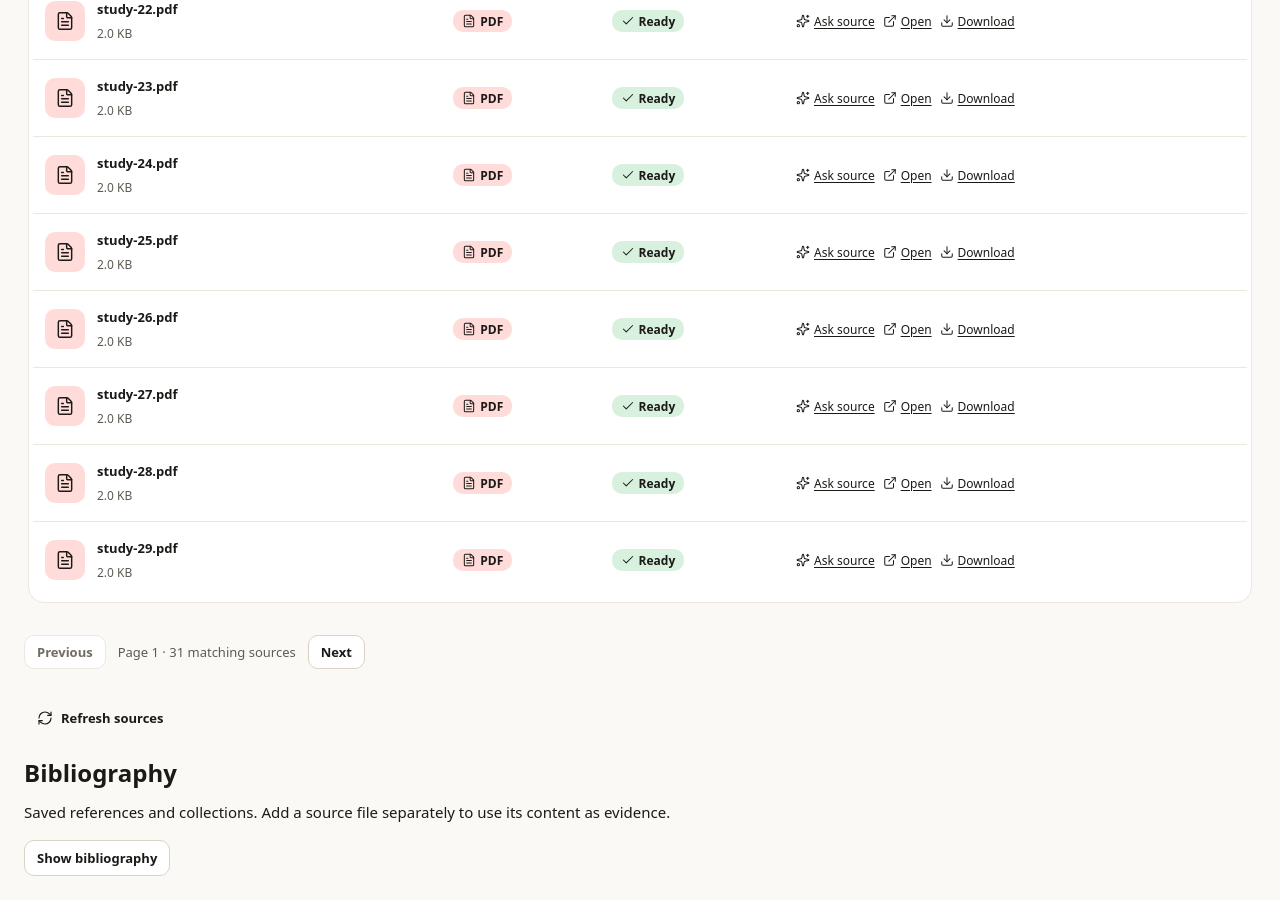
pages through bounded server results and restores a URL filter
(page scrolled)
Expected: the text "Page 1 · 31 matching sources" is shown, [118,642,296,662]
Click the button "Next".
click(336, 652)  # box [308,635,365,669]
(page scrolled)
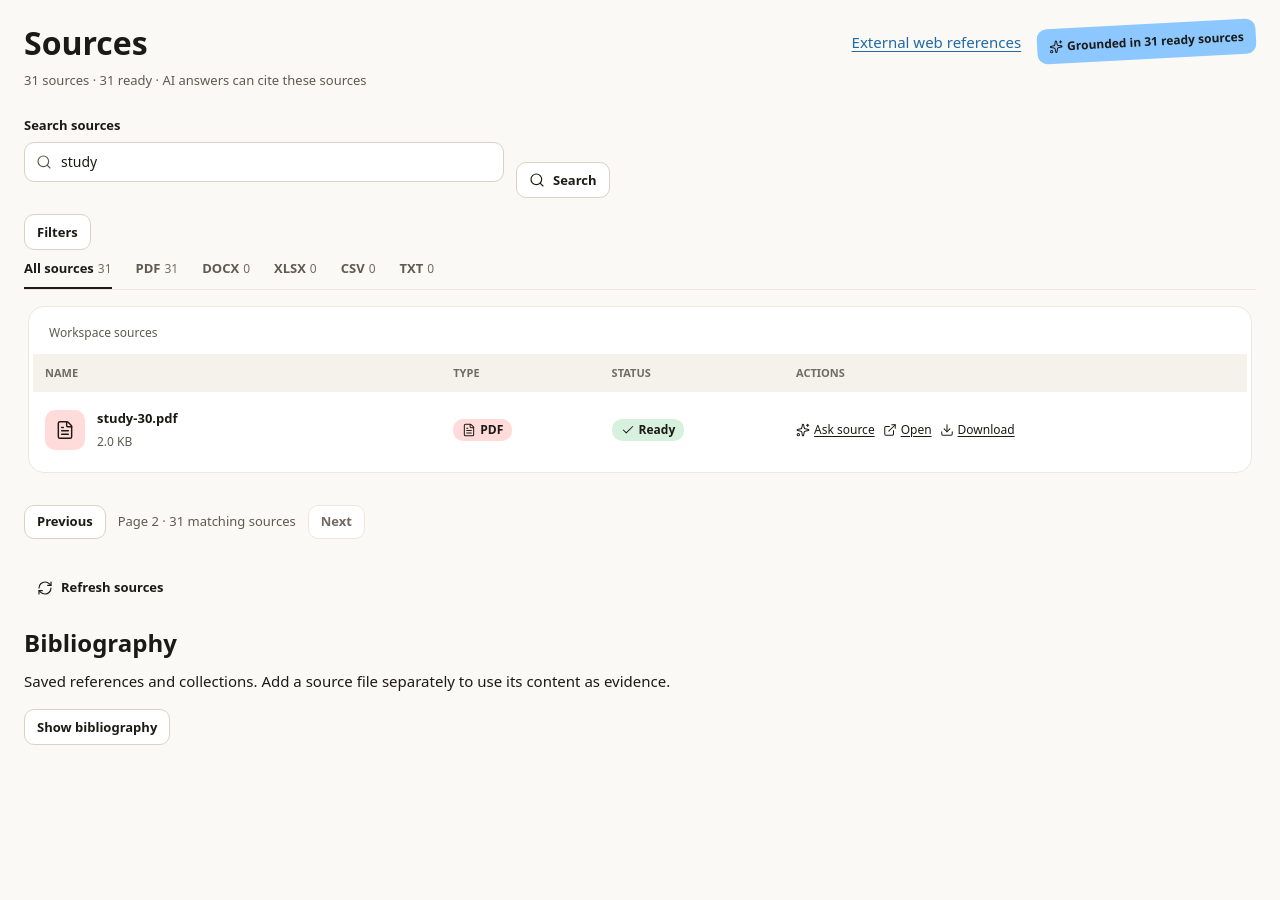
Now the text "Page 2 · 31 matching sources" is shown, box [118,511,296,532]
Now the number of rows is 2, box [33,354,1247,392]; [33,392,1247,468]
Now the button "Next" is disabled, box [308,504,365,538]
Click the button "Previous".
click(65, 522)  # box [24,504,106,538]
(page scrolled)
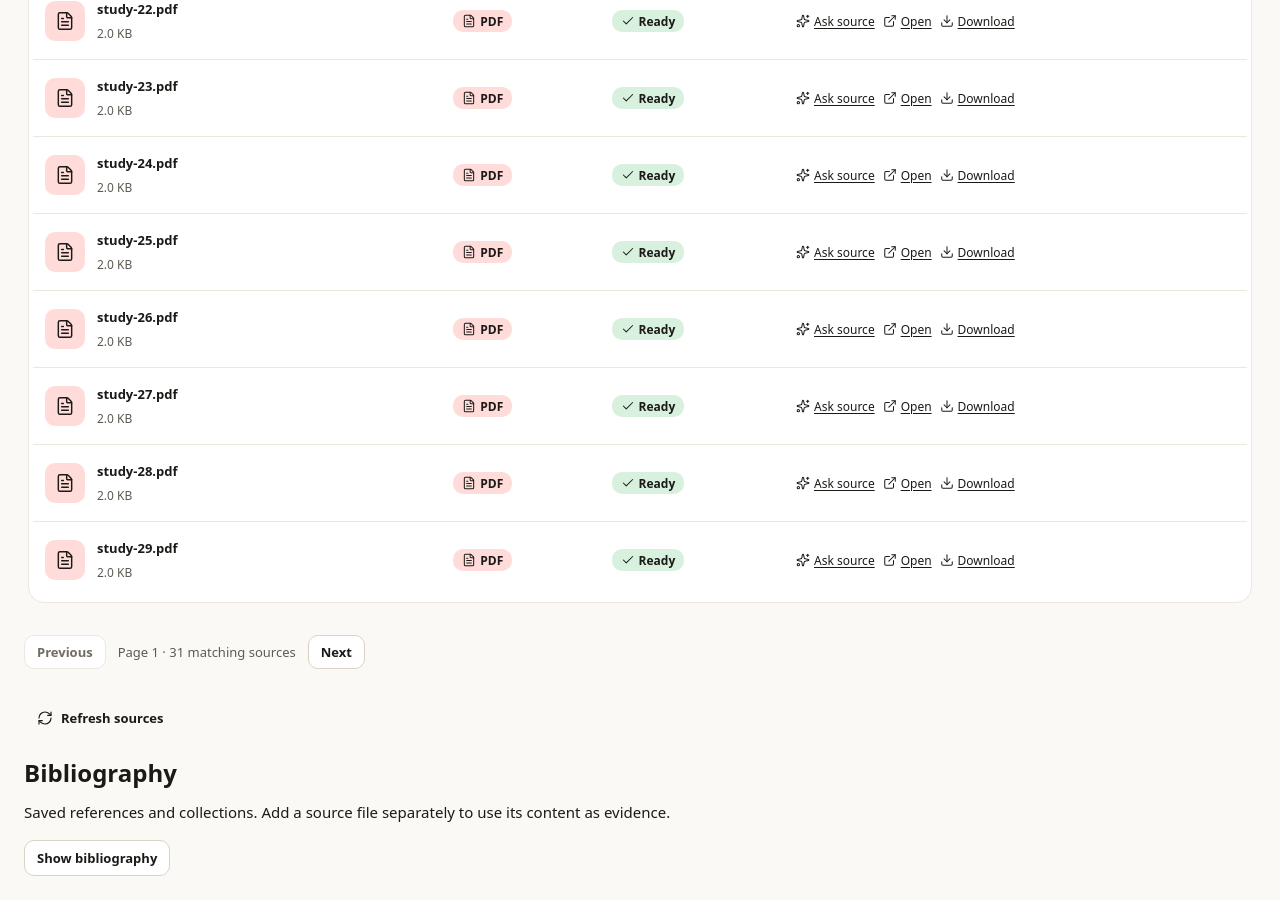
Now the text "Page 1 · 31 matching sources" is shown, box [118,642,296,662]
